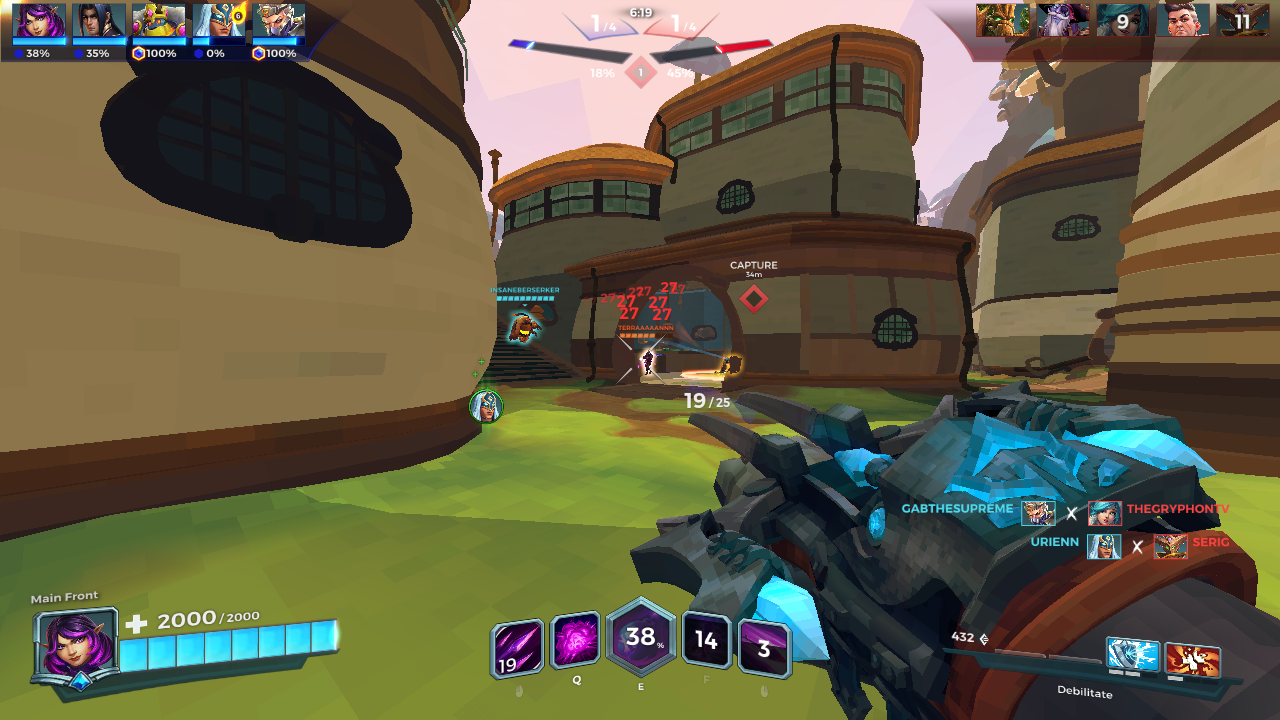model: (718, 355, 745, 374), (639, 346, 655, 372)
